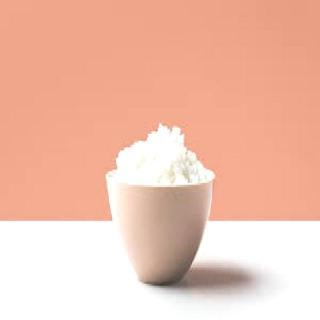Nasi: (108, 123, 212, 187)
